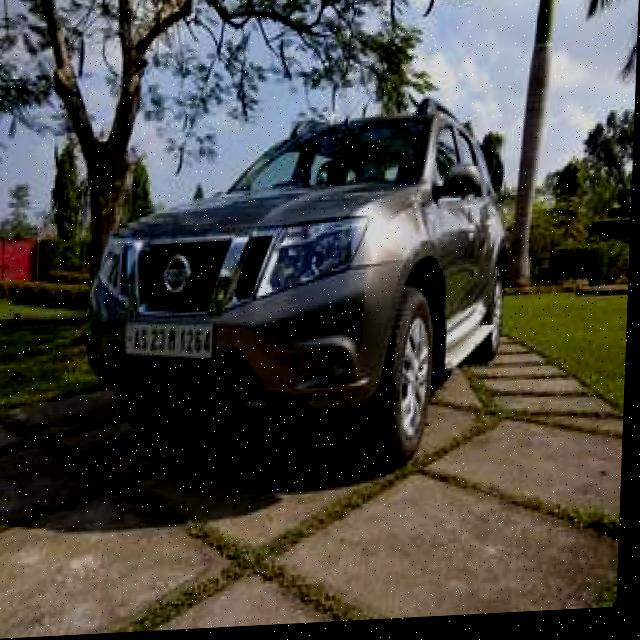plate: (126, 322, 218, 365)
